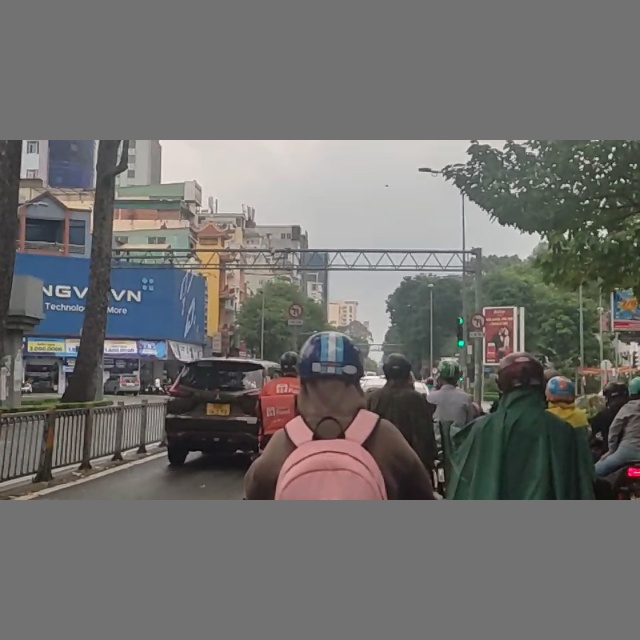P.124c: (287, 303, 305, 320), (470, 313, 485, 329)
